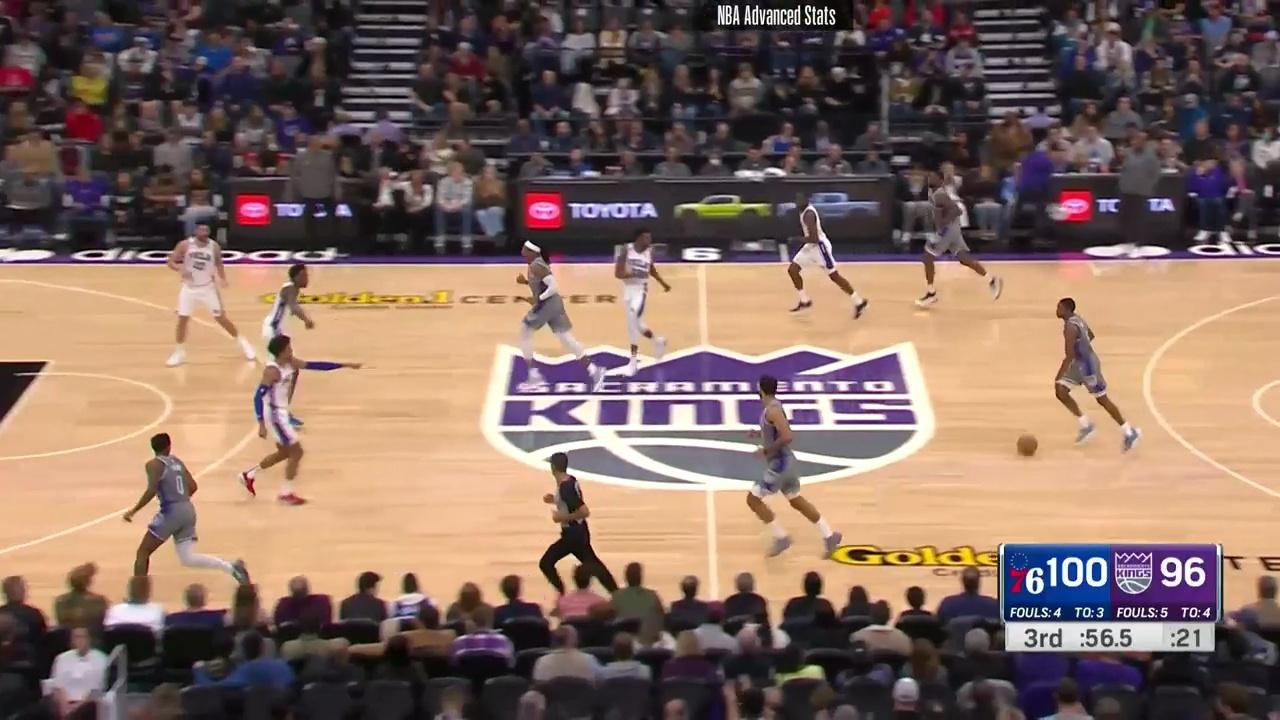Ball: (1016, 434, 1038, 454)
Dribble: (1018, 451, 1036, 459)
Person: (740, 374, 850, 562), (130, 432, 226, 602), (1048, 295, 1137, 453), (235, 332, 316, 501), (533, 447, 622, 600), (165, 219, 257, 367), (915, 164, 1007, 310), (782, 197, 871, 317), (513, 240, 584, 360), (259, 249, 329, 365), (612, 229, 669, 357), (1183, 156, 1237, 253)
